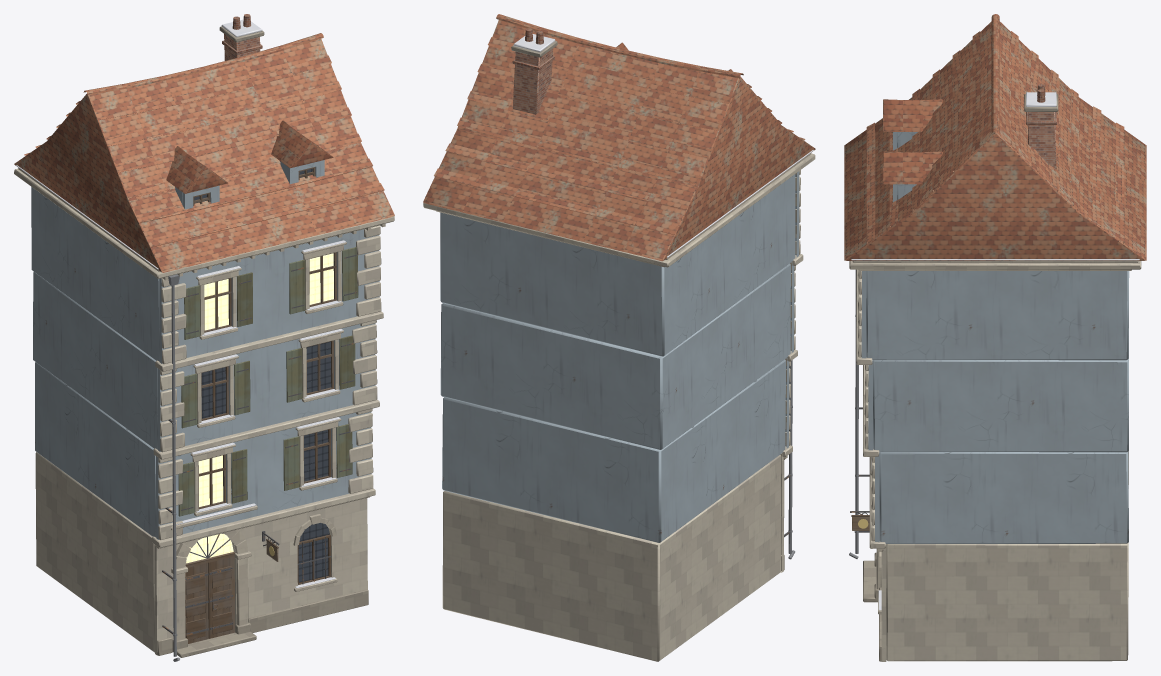
Rendered from tenement_e.glb.
3 renders of one model, left to right at view 1: azimuth 30°, elevation 25°; view 2: azimuth 150°, elevation 25°; view 3: azimuth 270°, elevation 25°, orthographic. The views are drawn at different scales.
Parts seen in each view (by area): view 1: tenement_e; view 2: tenement_e; view 3: tenement_e.
Boxes of the visible parts, box(x1,y1,x2,y2) form: tenement_e: box(14, 14, 394, 661); tenement_e: box(423, 14, 815, 661); tenement_e: box(844, 14, 1146, 661).
Size of what is drawn, in the model's own units: 9.08 by 19.69 by 9.81.
Materials: 17 (16 with a texture image).
